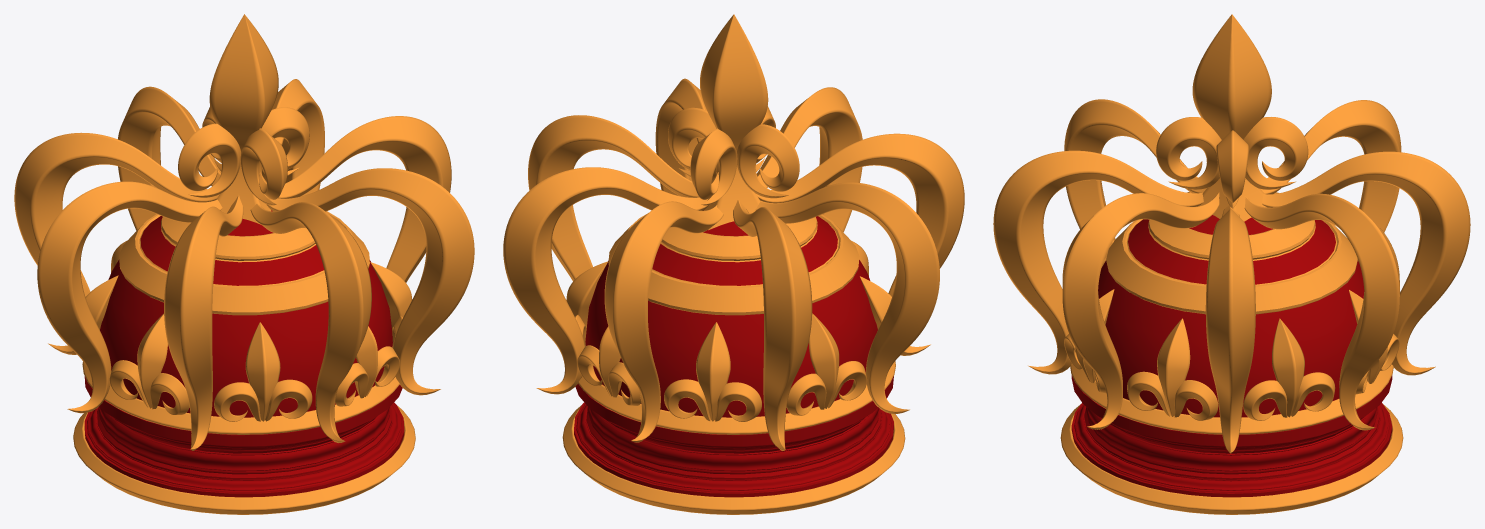
The model's file is Daisuhoihoatoannang.glb.
3 renders of one model, left to right at view 1: azimuth 30°, elevation 25°; view 2: azimuth 150°, elevation 25°; view 3: azimuth 270°, elevation 25°, orthographic.
Parts seen in each view (by area): view 1: gold details.001_5, crown head_3, crown part_0, crown rim top.001_4, BezierCircle.034_39, BezierCircle.046_51, BezierCircle.036_41, BezierCircle.003_31, BezierCircle.035_40, BezierCircle.047_52, BezierCircle.048_53, BezierCircle.039_44 (+3 smaller); view 2: gold details.001_5, crown head_3, crown part_0, crown rim top.001_4, BezierCircle.043_48, BezierCircle.031_36, BezierCircle.044_49, BezierCircle.040_45, BezierCircle.045_50, BezierCircle.033_38, BezierCircle.032_37, BezierCircle.029_34 (+3 smaller); view 3: gold details.001_5, crown head_3, crown part_0, crown rim top.001_4, BezierCircle.040_45, BezierCircle.003_31, BezierCircle.042_47, BezierCircle.004_32, BezierCircle.041_46, BezierCircle.028_33.
Part boxes in pixels (<box>): gold details.001_5: <box>14,14,474,514</box>; crown head_3: <box>100,210,392,417</box>; crown part_0: <box>84,376,404,497</box>; crown rim top.001_4: <box>82,346,399,434</box>; BezierCircle.034_39: <box>245,322,280,421</box>; BezierCircle.046_51: <box>137,313,167,408</box>; BezierCircle.036_41: <box>214,382,260,421</box>; BezierCircle.003_31: <box>370,262,412,330</box>; BezierCircle.035_40: <box>265,379,312,421</box>; BezierCircle.047_52: <box>150,373,189,414</box>; BezierCircle.048_53: <box>109,360,148,407</box>; BezierCircle.039_44: <box>335,363,368,406</box>; gold details.001_5: <box>503,14,964,514</box>; crown head_3: <box>585,213,877,417</box>; crown part_0: <box>574,376,893,497</box>; crown rim top.001_4: <box>578,361,895,434</box>; BezierCircle.043_48: <box>696,322,730,421</box>; BezierCircle.031_36: <box>808,313,839,408</box>; BezierCircle.044_49: <box>715,382,761,421</box>; BezierCircle.040_45: <box>566,261,607,330</box>; BezierCircle.045_50: <box>664,379,710,420</box>; BezierCircle.033_38: <box>786,373,826,415</box>; BezierCircle.032_37: <box>827,361,867,408</box>; BezierCircle.029_34: <box>608,362,641,405</box>; gold details.001_5: <box>993,14,1470,514</box>; crown head_3: <box>1098,192,1364,417</box>; crown part_0: <box>1071,375,1392,497</box>; crown rim top.001_4: <box>1070,363,1393,434</box>; BezierCircle.040_45: <box>1272,318,1304,417</box>; BezierCircle.003_31: <box>1157,318,1190,416</box>; BezierCircle.042_47: <box>1243,380,1287,420</box>; BezierCircle.004_32: <box>1174,380,1218,420</box>; BezierCircle.041_46: <box>1291,372,1335,416</box>; BezierCircle.028_33: <box>1127,371,1170,416</box>.
Bounding box in the file's own units: 16.14 × 16.15 × 16.14.
